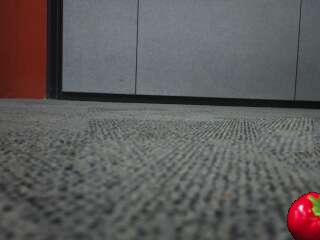Tomato: (286, 193, 320, 240)
